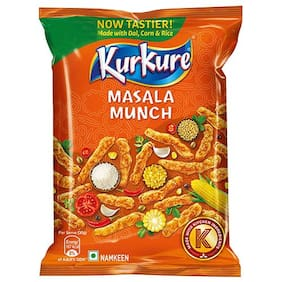kurkure: (89, 42, 201, 89)
plastic: (31, 3, 251, 282)
wrapper: (47, 17, 236, 277)
